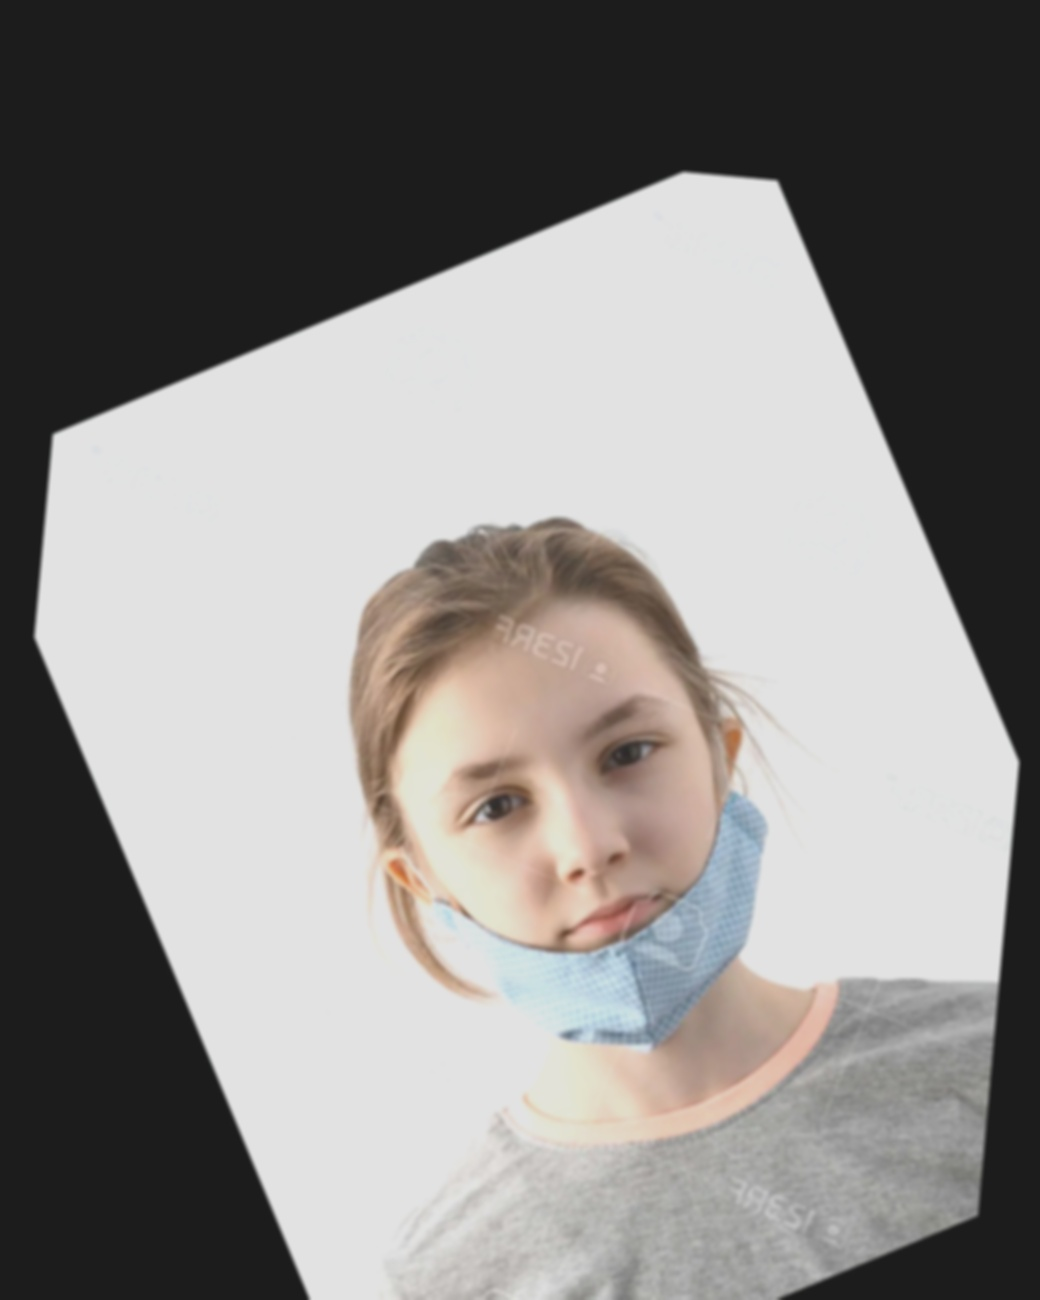mask_weared_incorrect: (373, 537, 771, 1095)
